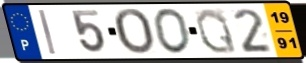2: (233, 8, 276, 55)
5: (68, 9, 108, 55)
I: (36, 9, 59, 56)
O: (111, 7, 157, 56), (152, 7, 193, 56)
Q: (194, 7, 240, 55)
